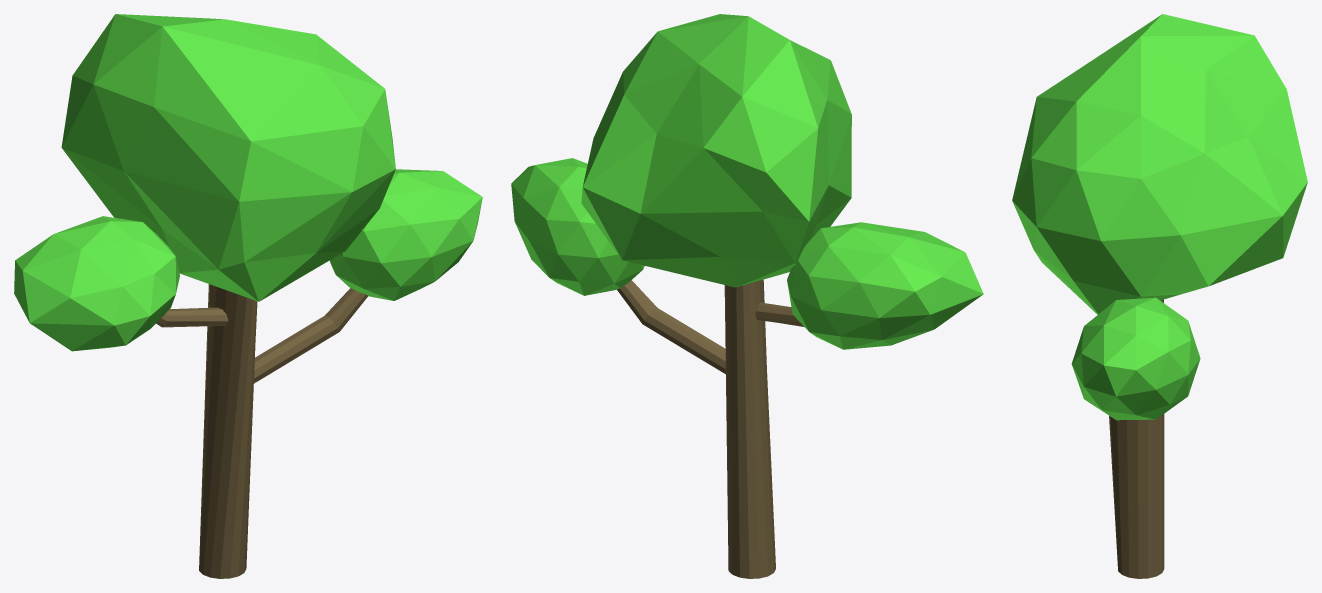
File: tree_5.fbx
The picture shows the model from 3 angles, left to right: view 1: azimuth 30°, elevation 25°; view 2: azimuth 150°, elevation 25°; view 3: azimuth 270°, elevation 25°; orthographic projection. The views are drawn at different scales.
Parts seen in each view (by area): view 1: tree_3; view 2: tree_3; view 3: tree_3.
Part boxes in pixels (box(x1,y1,x2,y2)): tree_3: box(14, 14, 482, 578); tree_3: box(511, 14, 983, 578); tree_3: box(1012, 14, 1307, 578).
Size of the model in its own units: 4538 by 5239 by 2627.
